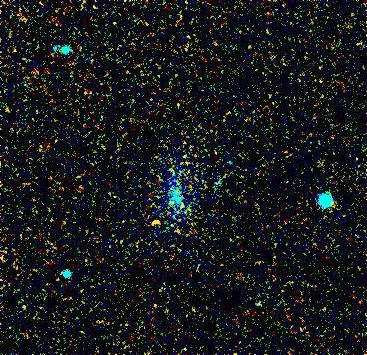star: (141, 207, 171, 237)
